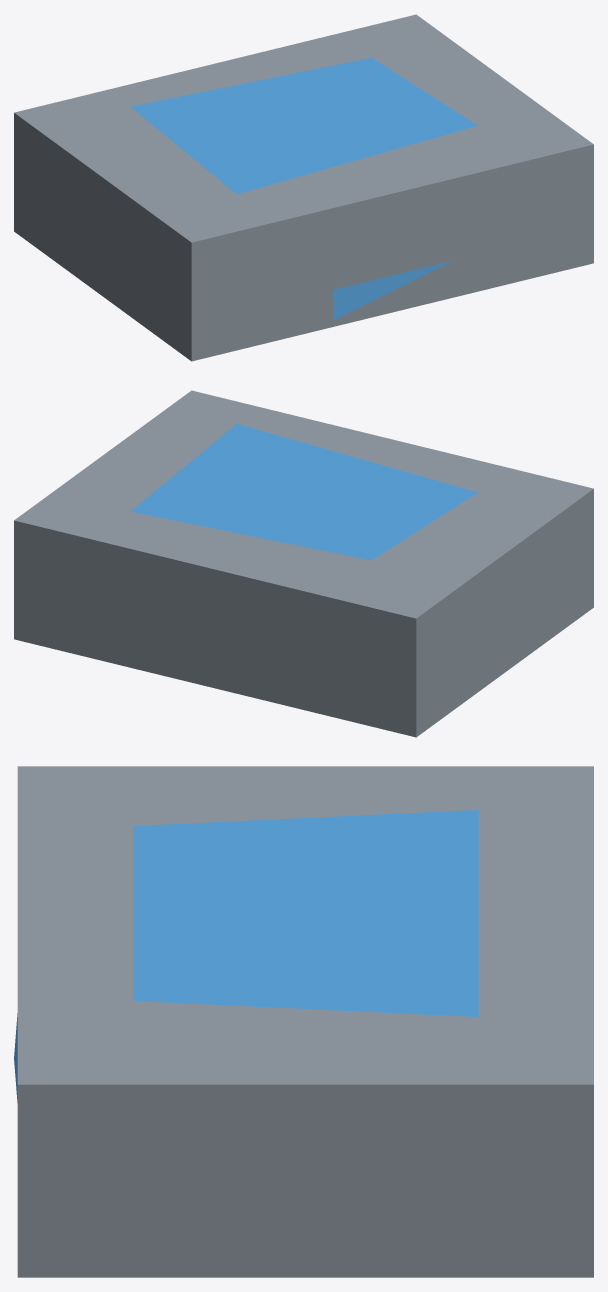
File: AL_VectorVTOL_LOD1.glb
3 views of the same model, one above another, from view 1: azimuth 30°, elevation 25°; view 2: azimuth 150°, elevation 25°; view 3: azimuth 270°, elevation 25° (orthographic). The views are drawn at different scales.
Parts seen in each view (by area): view 1: EntranceGate; view 2: EntranceGate; view 3: EntranceGate.
Part boxes in pixels (x1,y1,x2,y2): EntranceGate: (14,14,593,361); EntranceGate: (14,390,593,737); EntranceGate: (14,766,593,1277).
Bounding box in the file's own units: 680 × 212 × 523.
